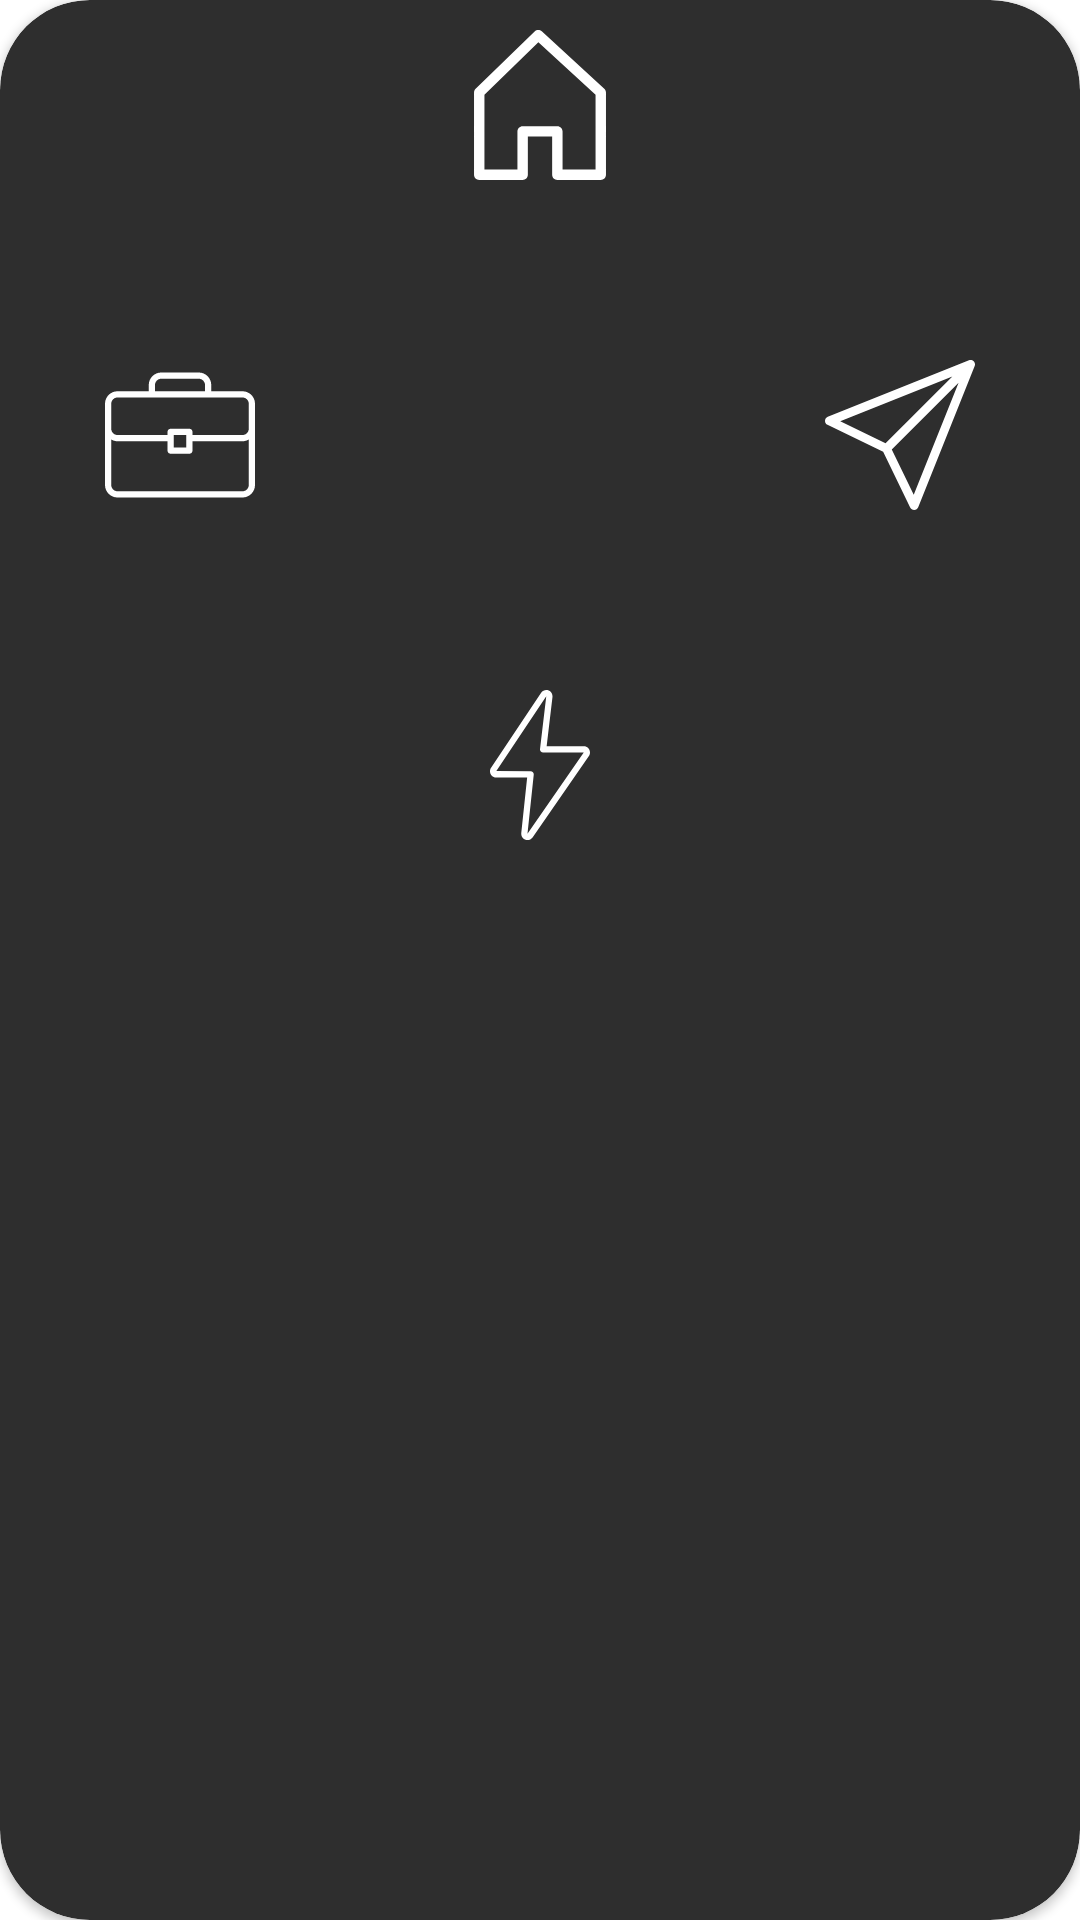

Icon click points for this 1080x1920 phone screenshot, format point (x, y):
briefcase: point (180, 435)
flash: point (540, 765)
home: point (540, 105)
send: point (900, 435)
